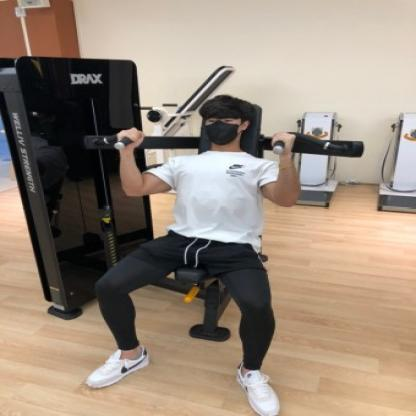shoulder press machine: (2, 46, 372, 416)
